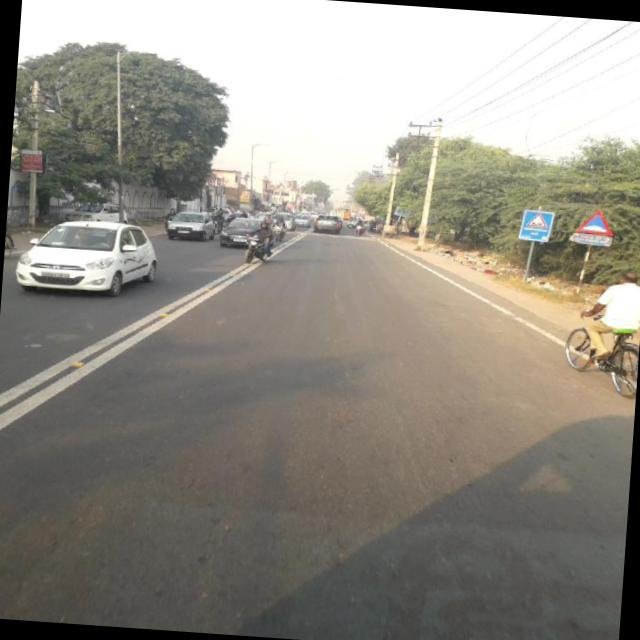pothole: (332, 305, 488, 596)
